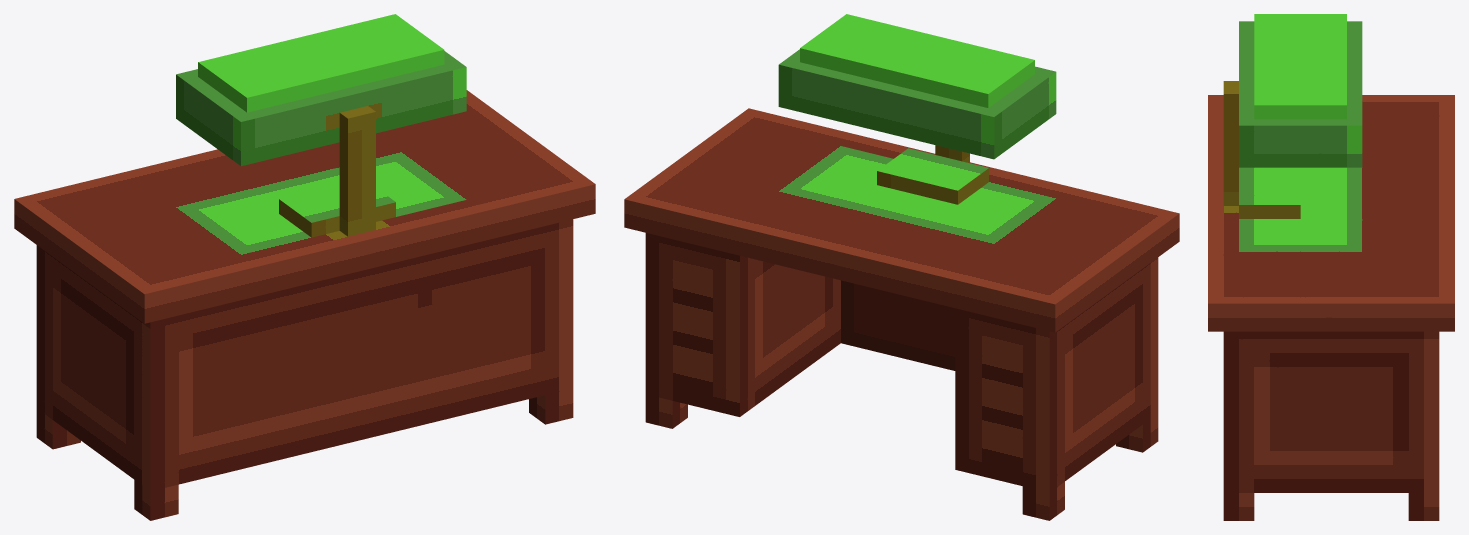
The model's file is library_deskao.fezao.glb.
The picture shows the model from 3 angles, left to right: view 1: azimuth 30°, elevation 25°; view 2: azimuth 150°, elevation 25°; view 3: azimuth 270°, elevation 25°; orthographic projection. The views are drawn at different scales.
Visible parts, largest first — view 1: LIBRARY_DESKAO; view 2: LIBRARY_DESKAO; view 3: LIBRARY_DESKAO.
Part boxes in pixels (x1,y1,x2,y2): LIBRARY_DESKAO: (14, 14, 595, 520); LIBRARY_DESKAO: (624, 14, 1179, 520); LIBRARY_DESKAO: (1208, 14, 1454, 520).
Size of the model in its own units: 2 by 1.62 by 1.
Materials: 1 (1 with a texture image).
